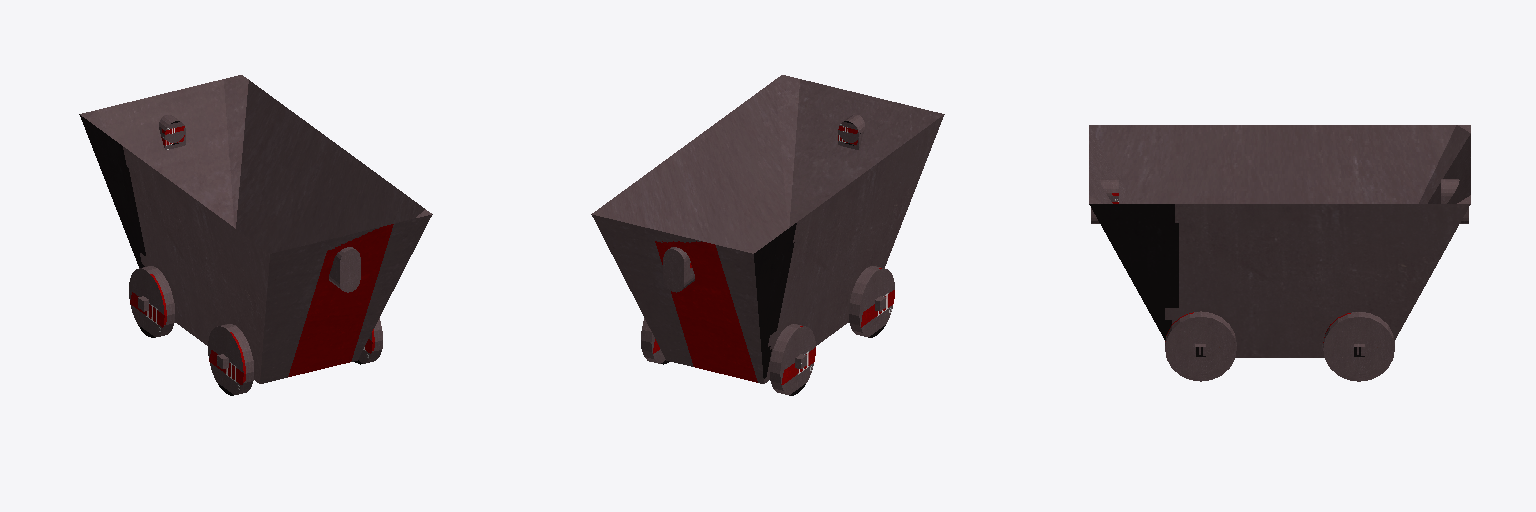
3 renders of one model, left to right at view 1: azimuth 30°, elevation 25°; view 2: azimuth 150°, elevation 25°; view 3: azimuth 270°, elevation 25°, orthographic.
Visible parts, largest first — view 1: polySurface24; view 2: polySurface24; view 3: polySurface24.
Part boxes in pixels (x1,y1,x2,y2): polySurface24: (79, 75, 432, 395); polySurface24: (591, 75, 944, 395); polySurface24: (1089, 125, 1470, 381).
Size of the model in its own units: 2.5 by 2.7 by 5.08.
Materials: 1 (1 with a texture image).